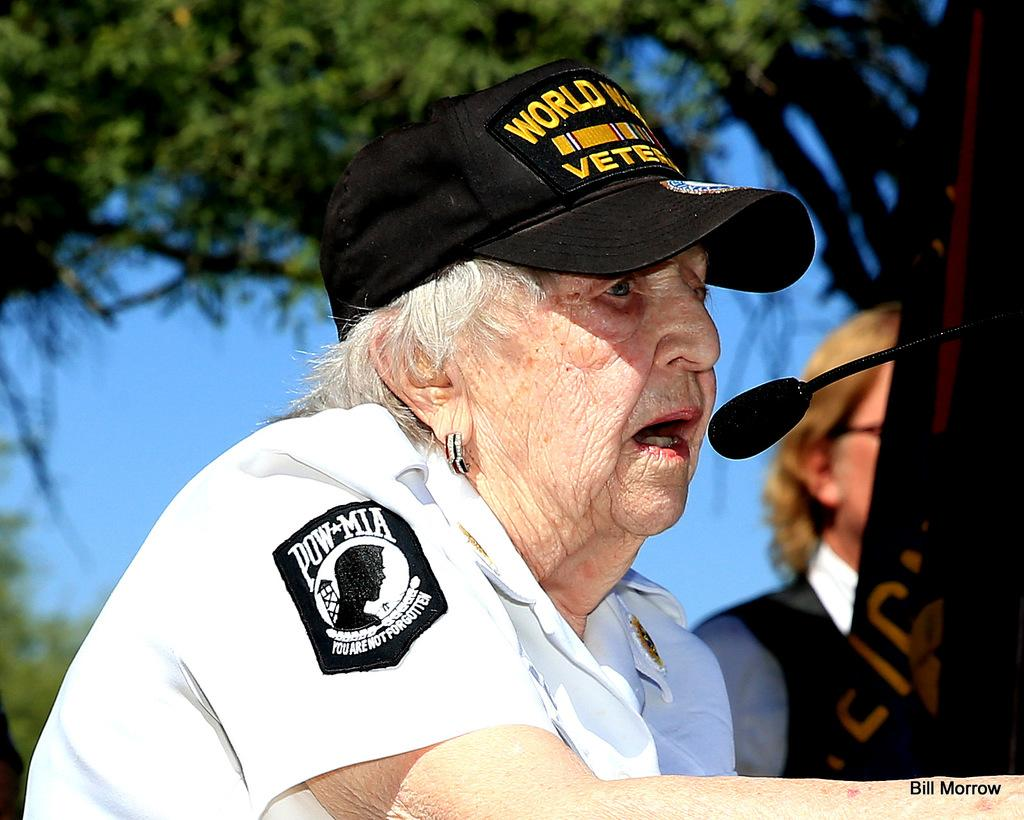Hat: (321, 54, 814, 329)
